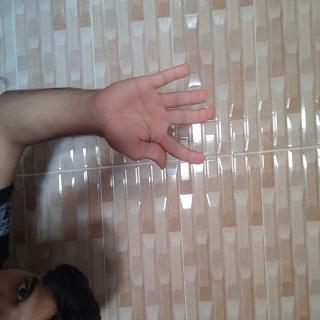SHEEN: (42, 135, 133, 308)
